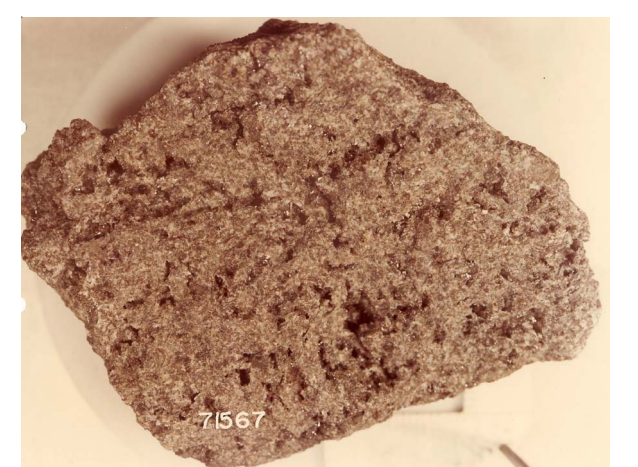Basalt: (24, 24, 591, 403), (167, 228, 500, 360)
